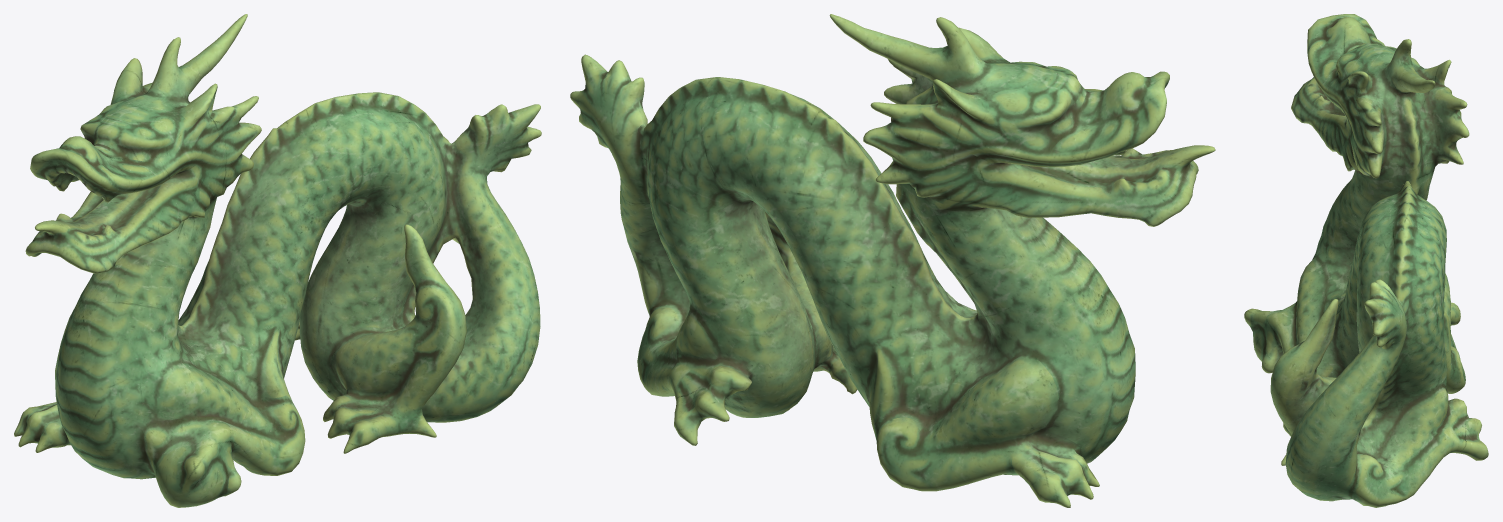
File: Stanford_Dragon.fbx
3 views of the same model, side by side, from view 1: azimuth 30°, elevation 25°; view 2: azimuth 150°, elevation 25°; view 3: azimuth 270°, elevation 25° (orthographic). The views are drawn at different scales.
Parts seen in each view (by area): view 1: StanfordDragon_low; view 2: StanfordDragon_low; view 3: StanfordDragon_low.
Boxes of the visible parts, bbox=[...] form: StanfordDragon_low: bbox=[14, 14, 541, 507]; StanfordDragon_low: bbox=[570, 14, 1215, 507]; StanfordDragon_low: bbox=[1244, 14, 1488, 507].
Bounding box in the file's own units: 3538 × 2490 × 1580.
